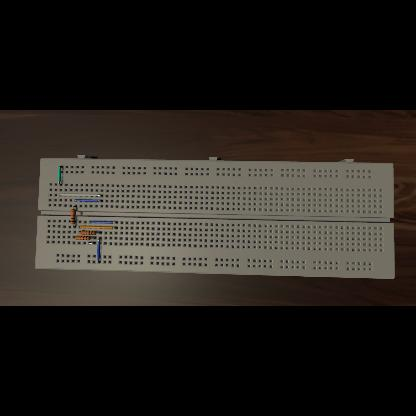breadboard: (36, 155, 394, 279)
resistor: (70, 210, 76, 224), (81, 231, 97, 235), (75, 236, 91, 240)
wire: (58, 166, 64, 186), (97, 238, 101, 263), (59, 194, 103, 196), (78, 227, 118, 229), (74, 200, 104, 202), (89, 222, 118, 224), (88, 242, 96, 244), (73, 224, 76, 228), (96, 232, 102, 234), (74, 206, 76, 210), (90, 237, 96, 238), (80, 232, 80, 234), (74, 237, 74, 238)
